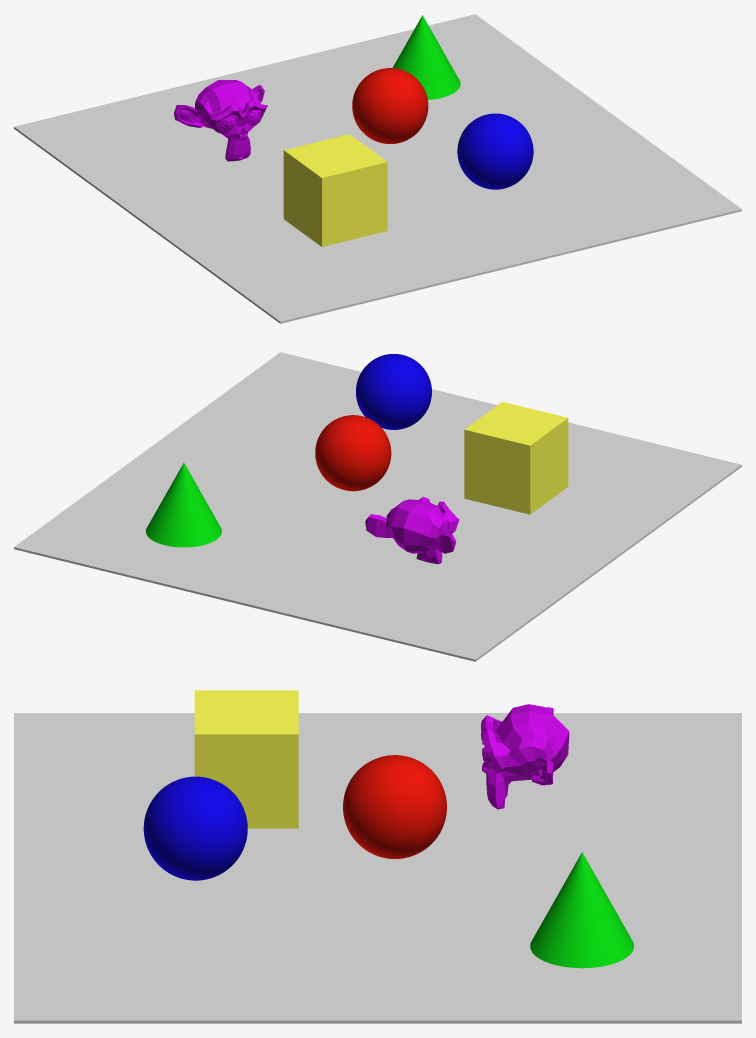
Rendered from TestScene.fbx.
The picture shows the model from 3 angles, top to bottom: view 1: azimuth 30°, elevation 25°; view 2: azimuth 150°, elevation 25°; view 3: azimuth 270°, elevation 25°; orthographic projection. The views are drawn at different scales.
Visible parts, largest first — view 1: Cube.001, Cube, Sphere, Sphere.001, Suzanne, Cone; view 2: Cube.001, Cube, Sphere.001, Sphere, Suzanne, Cone; view 3: Cube.001, Cube, Sphere, Sphere.001, Cone, Suzanne.
Part boxes in pixels (x1,y1,x2,y2): Cube.001: (14,14,741,323); Cube: (283,134,387,246); Sphere: (457,113,533,189); Sphere.001: (352,68,428,143); Suzanne: (174,80,267,161); Cone: (392,15,460,99); Cube.001: (14,352,741,661); Cube: (464,402,568,514); Sphere.001: (315,415,391,491); Sphere: (356,354,431,429); Suzanne: (365,496,459,564); Cone: (146,463,221,547); Cube.001: (14,713,741,1023); Cube: (194,690,298,828); Sphere: (143,776,247,880); Sphere.001: (343,755,446,858); Cone: (530,852,633,968); Suzanne: (481,704,569,809).
Bounding box in the file's own units: 280 × 51.82 × 280.
